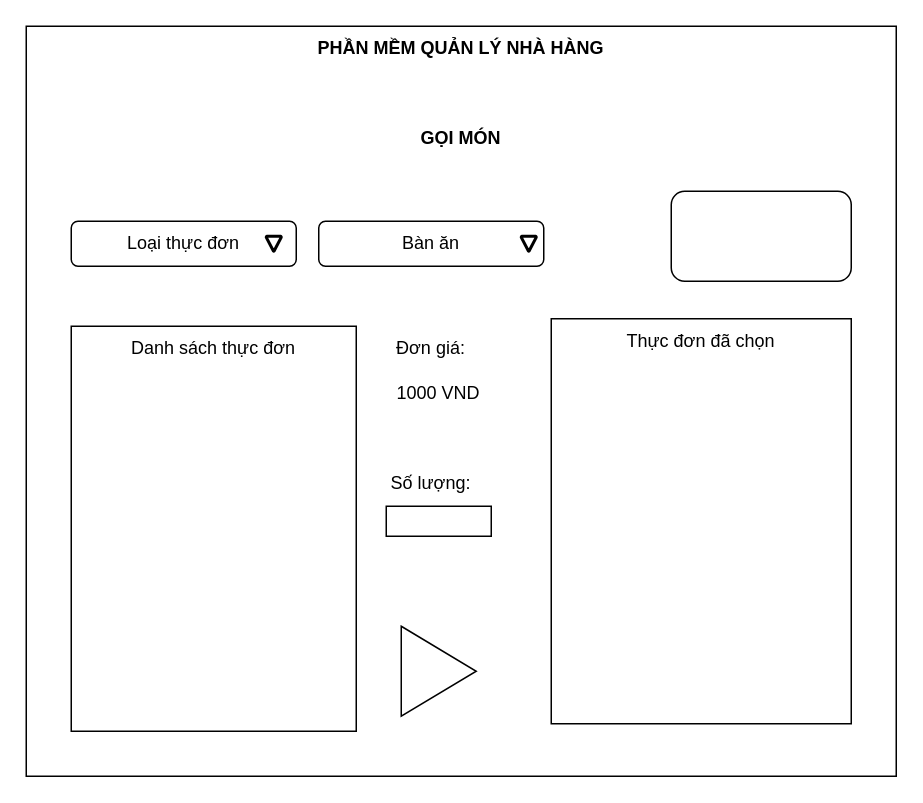
This 923x803 diagram has some shape labels left out. Each missing label, with the centre of its shape:
"Lưu hóa đơn" belongs at (x=760, y=235).
"Thêm" belongs at (x=438, y=670).
